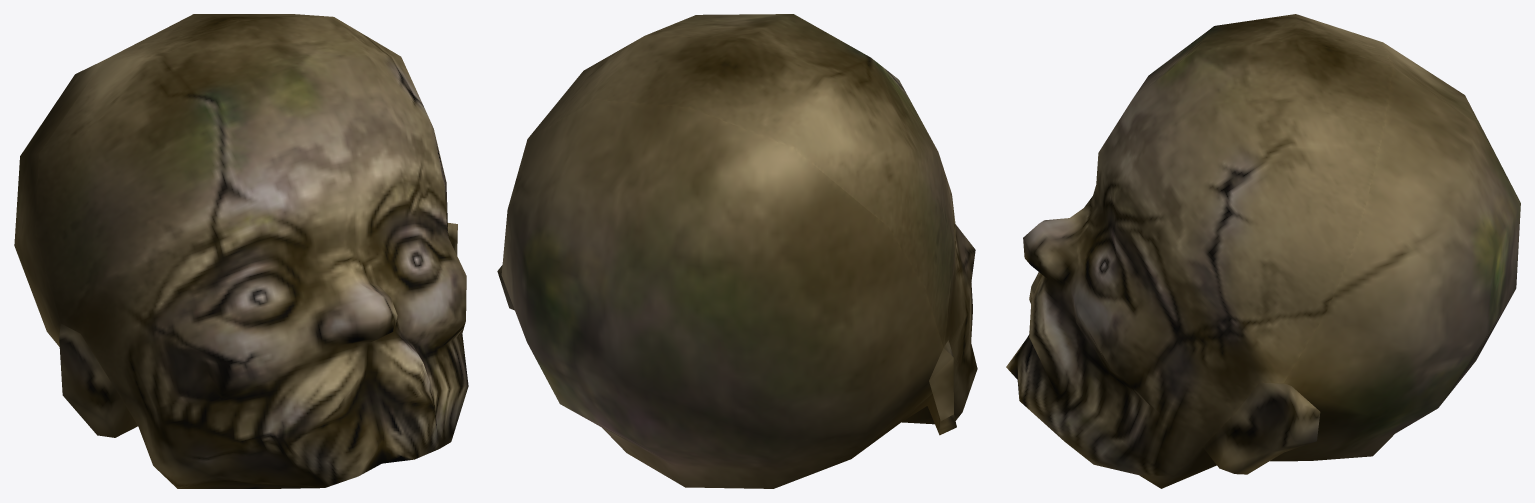
Rendered from GAM_Relic01.FBX.
The picture shows the model from 3 angles, left to right: view 1: azimuth 30°, elevation 25°; view 2: azimuth 150°, elevation 25°; view 3: azimuth 270°, elevation 25°; orthographic projection. The views are drawn at different scales.
Visible parts, largest first — view 1: GAM_Relic01; view 2: GAM_Relic01; view 3: GAM_Relic01.
Boxes of the visible parts, x1=… form: GAM_Relic01: x1=14, y1=14, x2=468, y2=488; GAM_Relic01: x1=497, y1=14, x2=977, y2=488; GAM_Relic01: x1=1006, y1=14, x2=1520, y2=488.
Size of the model in its own units: 46.88 by 42.02 by 50.75.
